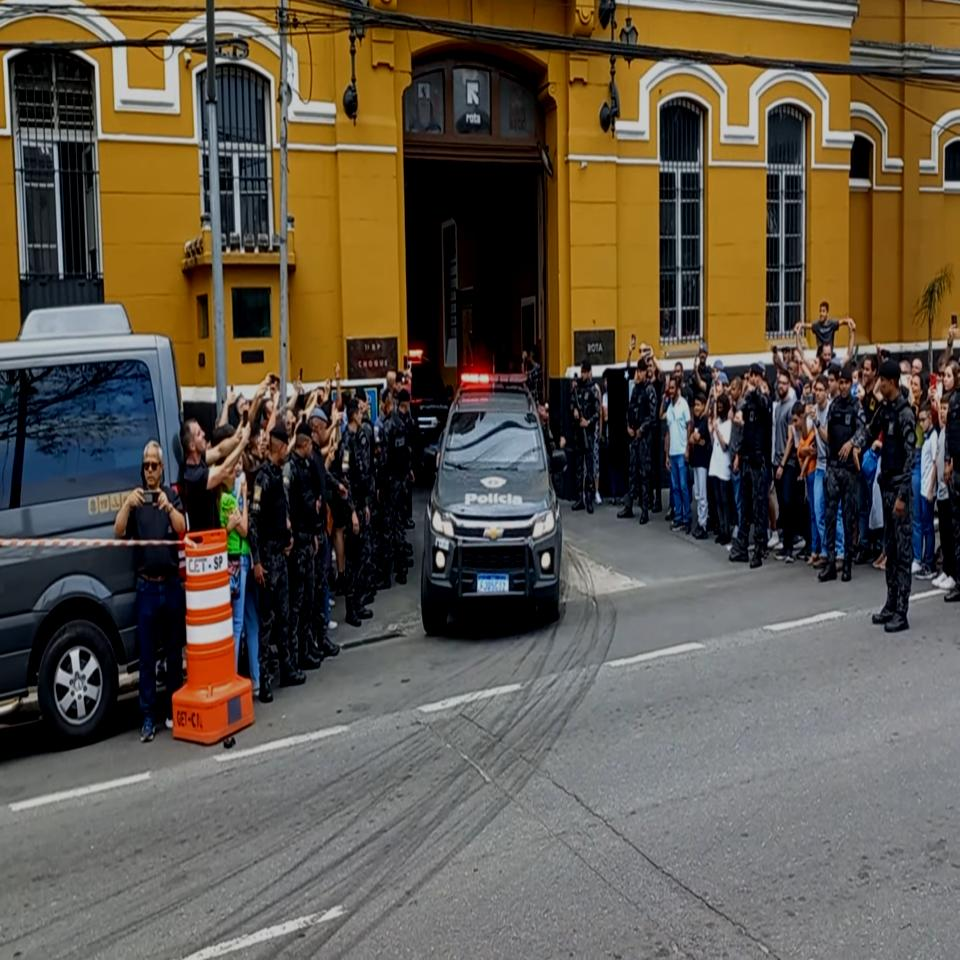viatura: (419, 373, 571, 635)
